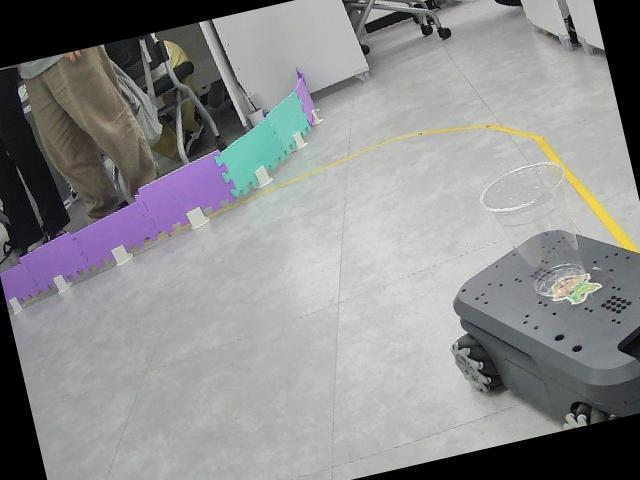Plastik: (480, 161, 585, 300)
